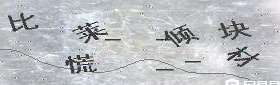chinese: (166, 24, 197, 51), (213, 17, 249, 40), (72, 19, 104, 42), (66, 52, 97, 73), (229, 48, 256, 69), (11, 12, 36, 33)
